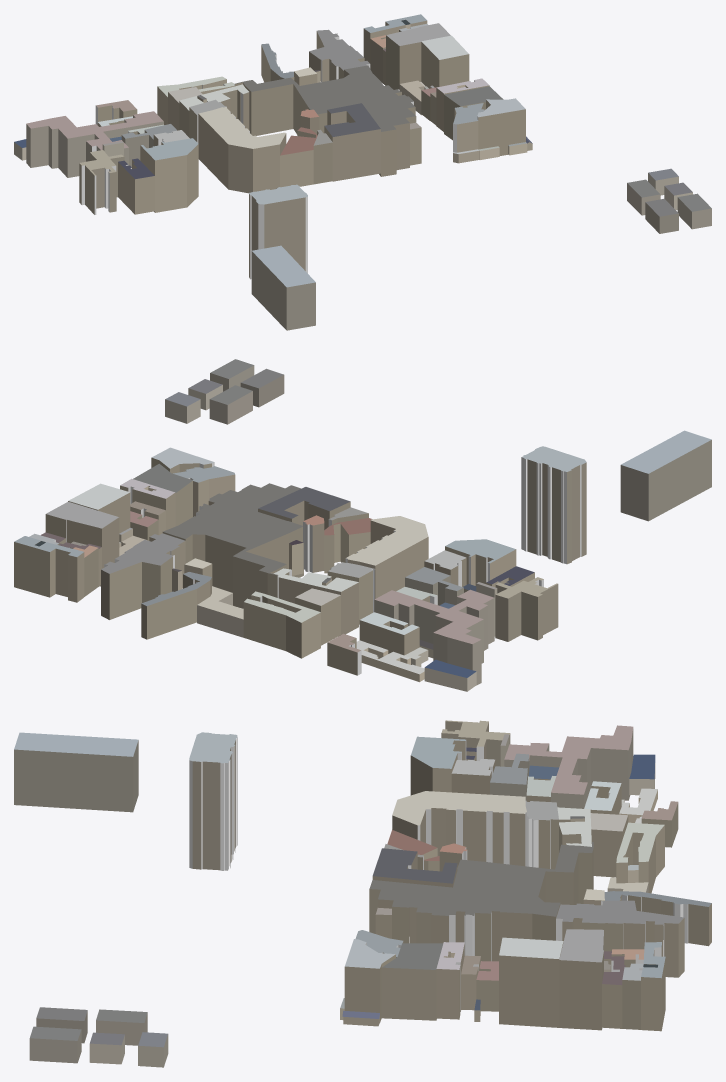
The picture shows the model from 3 angles, top to bottom: view 1: azimuth 30°, elevation 25°; view 2: azimuth 150°, elevation 25°; view 3: azimuth 270°, elevation 25°; orthographic projection. The views are drawn at different scales.
Visible parts, largest first — view 1: tuile; view 2: tuile; view 3: tuile.
Boxes of the visible parts, x1,y1,x2,y2 form: tuile: (14, 14, 711, 330); tuile: (14, 359, 711, 691); tuile: (14, 720, 711, 1067).
Bounding box in the file's own units: 265 × 45.35 × 266.
